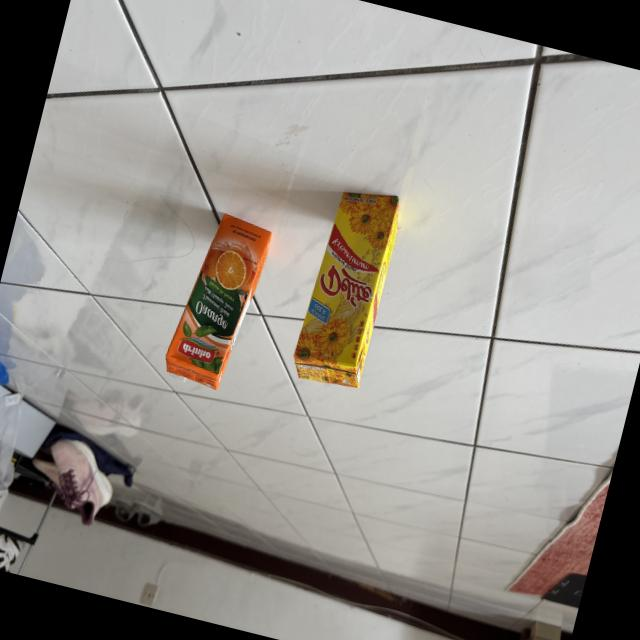drink_carton: (282, 170, 414, 407), (152, 195, 282, 406)
